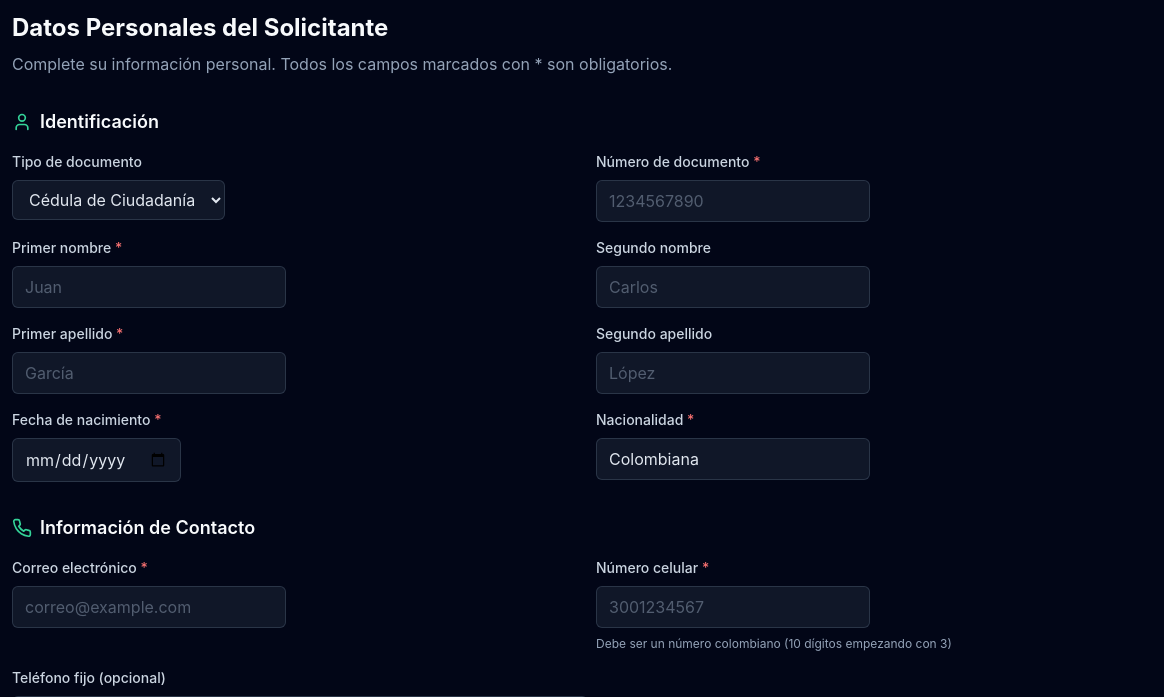
Test: FormStep3New - Datos Personales › ❌ Validation errors › should show error for invalid email
The image size is (1164, 697).
Type "invalid-email" into the field labelled "Correo electrónico *" at coordinates (149, 607), box 12,586 -> 286,628
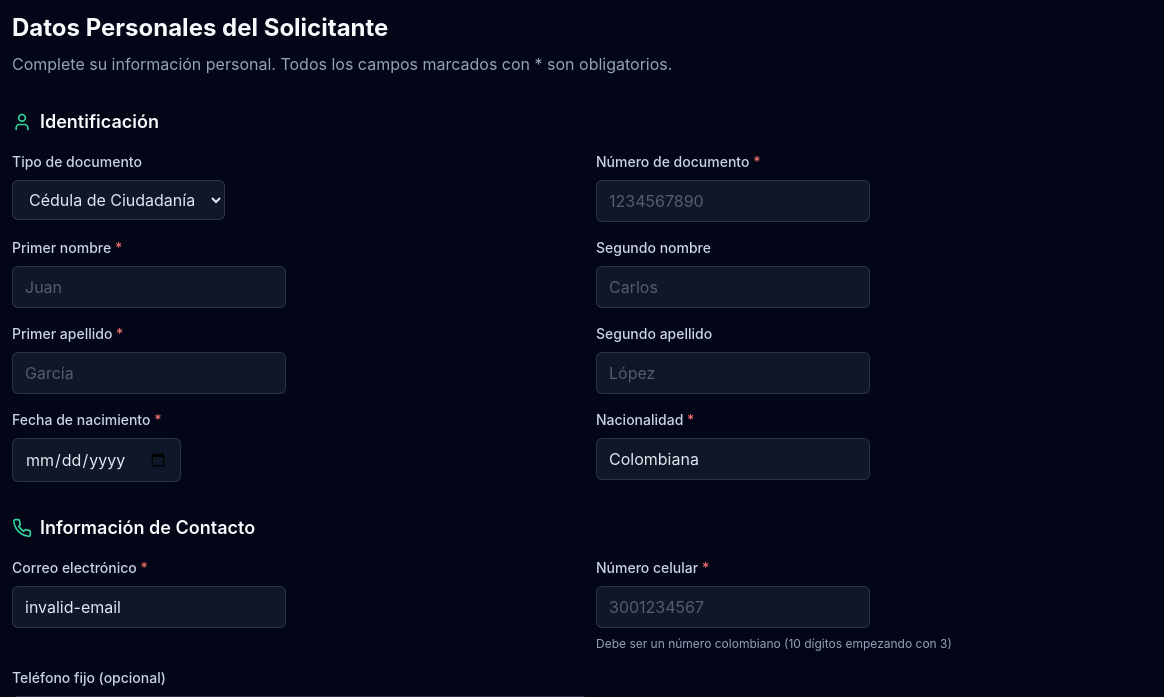
Leave the field labelled "Correo electrónico *", box 12,586 -> 286,628
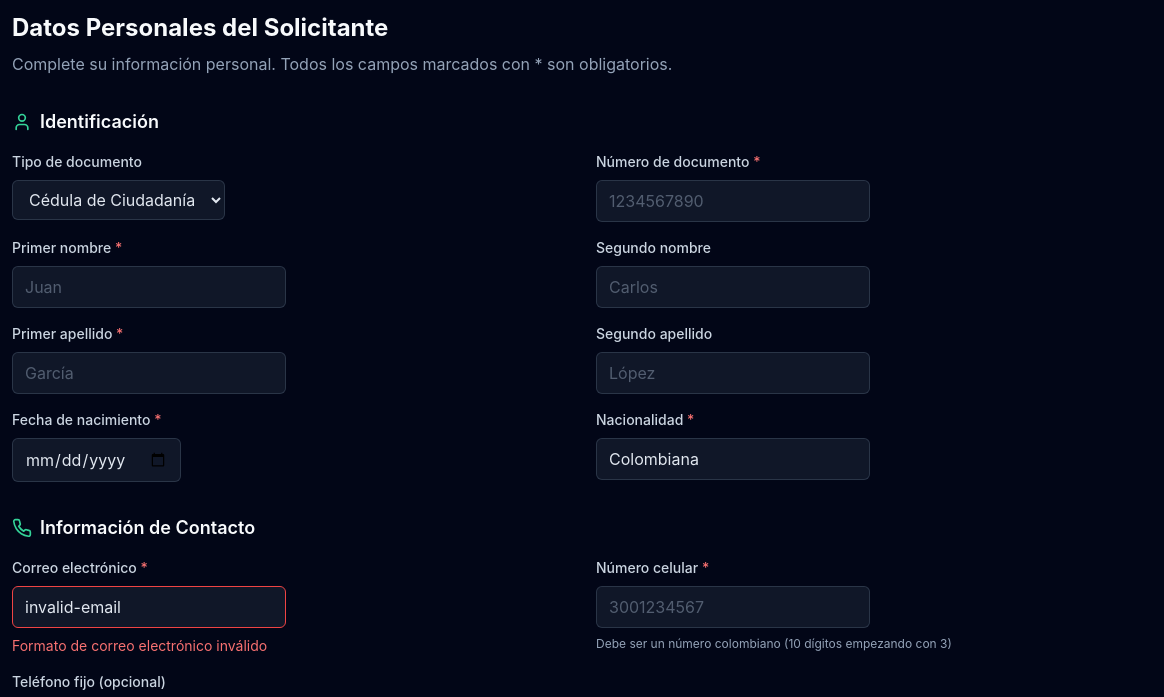
Expected: the message "Formato de correo electrónico inválido" is shown, 12,637 -> 267,654
